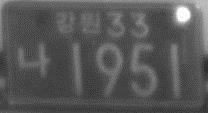1: (163, 43, 192, 97), (64, 43, 90, 94)
3: (104, 11, 125, 38), (128, 12, 149, 38)
5: (130, 42, 159, 96)
9: (95, 43, 123, 95)
강원_O: (54, 10, 101, 35)
나: (15, 42, 52, 78)
